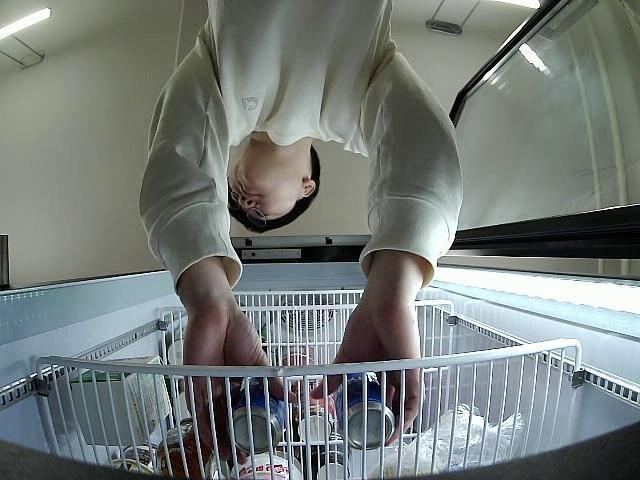15_letsbe: (333, 360, 398, 451), (230, 368, 286, 455)
